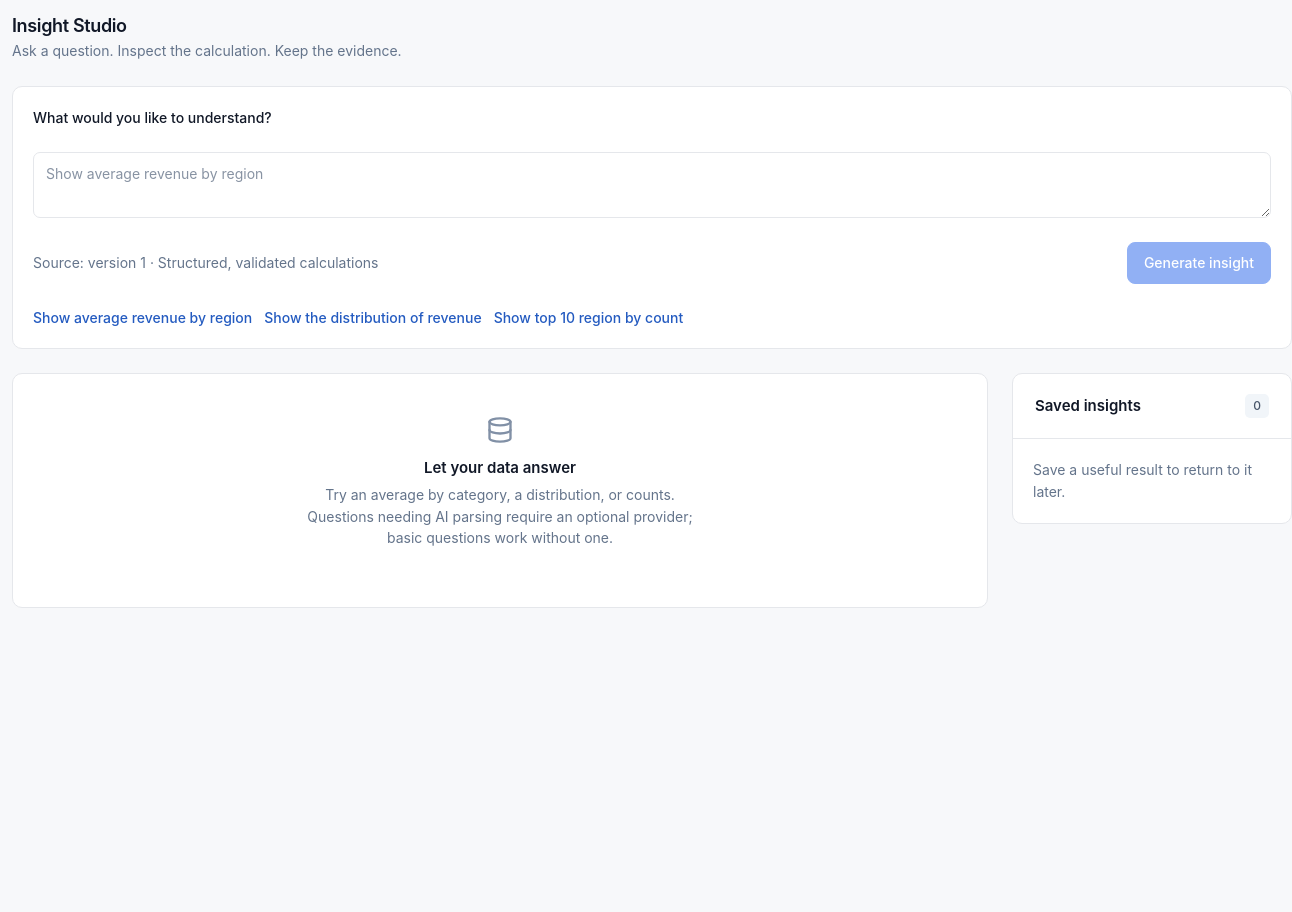
Test: Insights and analyst › reports provider failure without inventing a chart
Type "a question" into the text box labelled "What would you like to understand?".
click(652, 185); type("a question")  # box top-left (33, 152), bottom-right (1271, 218)
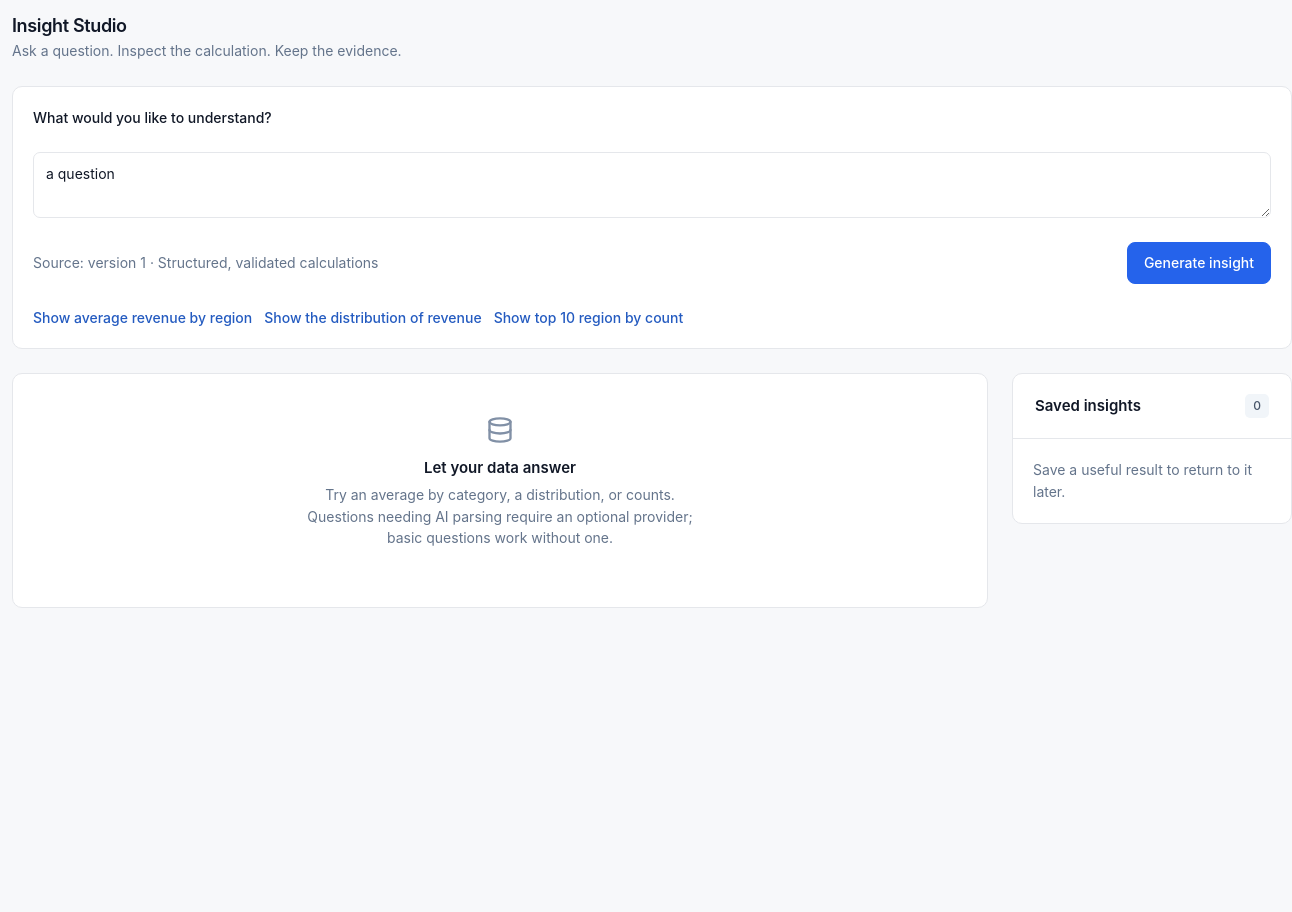
Click the button "Generate insight".
click(1199, 263)  # box top-left (1127, 242), bottom-right (1271, 284)
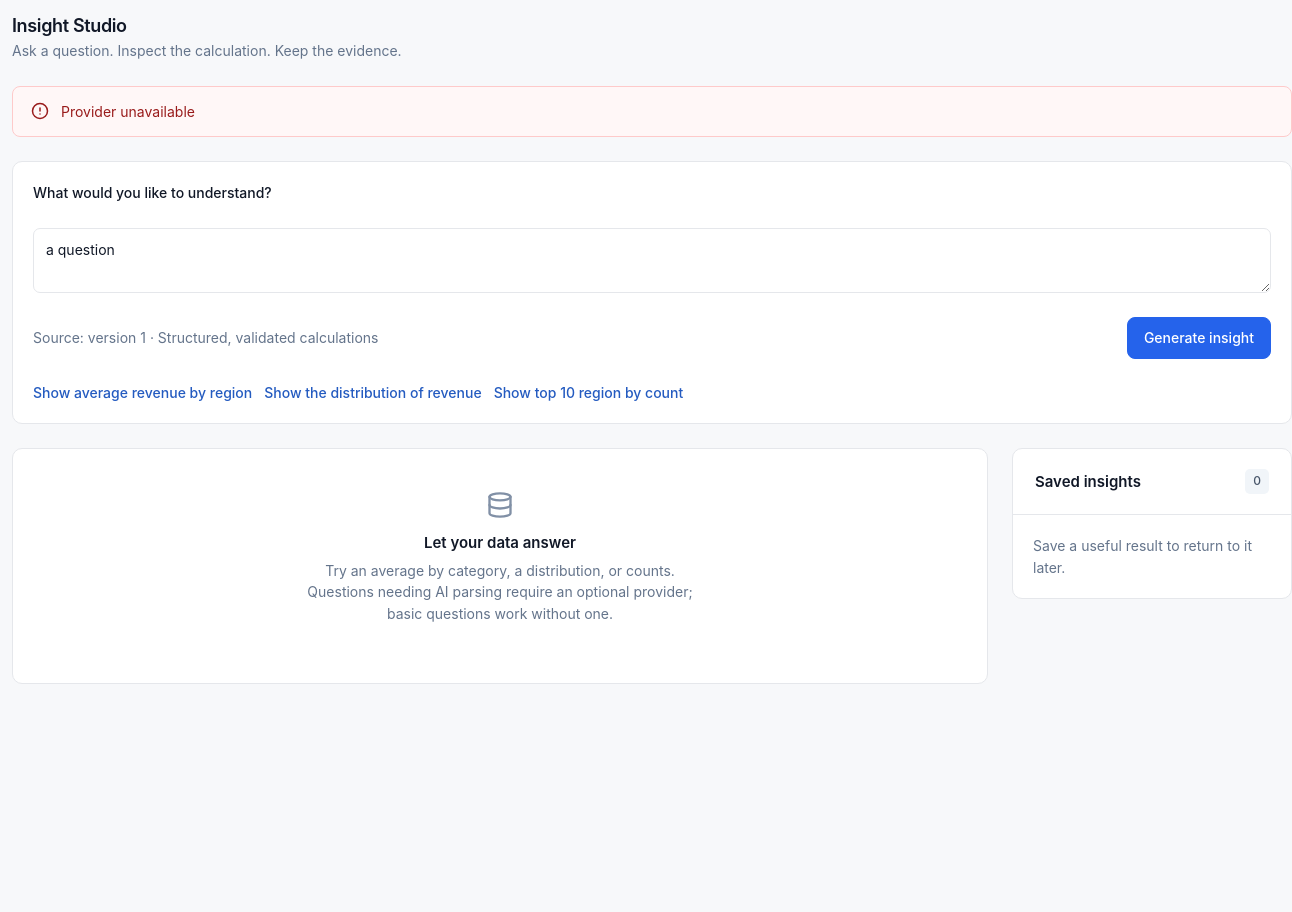
Expected: the message reads "Provider unavailable", top-left (61, 103), bottom-right (195, 120)
